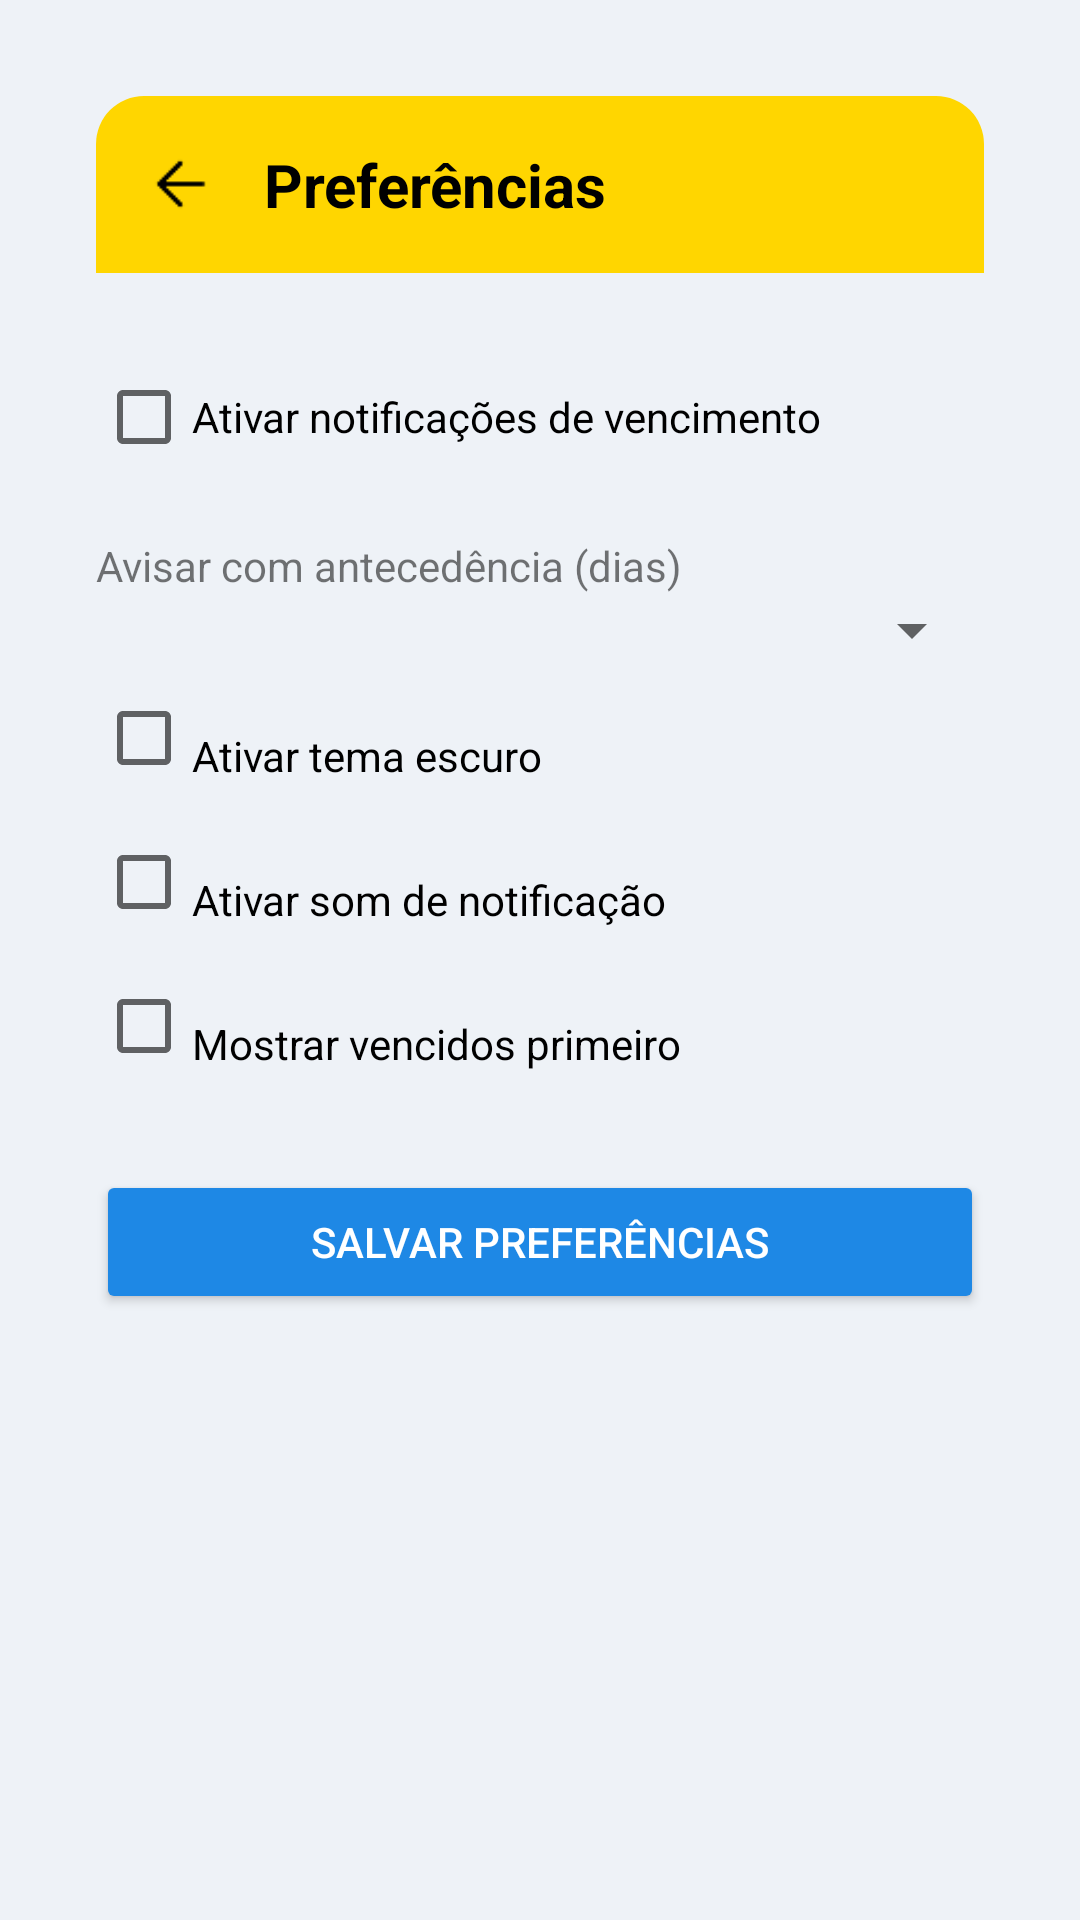

Screen size 1080×1920. Icon name, then its center in pixels as [x,y]:
Voltar: [181,184]
